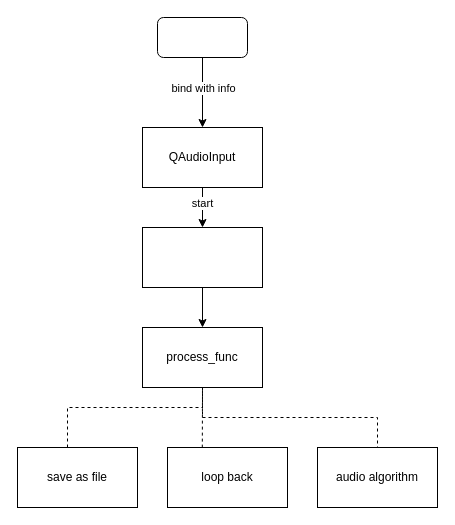
Image size: 455x525. Some labels were removed from this diagram. Here are the shapes that lost their labels. From the top down, the centre of each, then its label:
At (x=202, y=37): "Device".
At (x=202, y=257): "QIODevice (QBuffer)".
